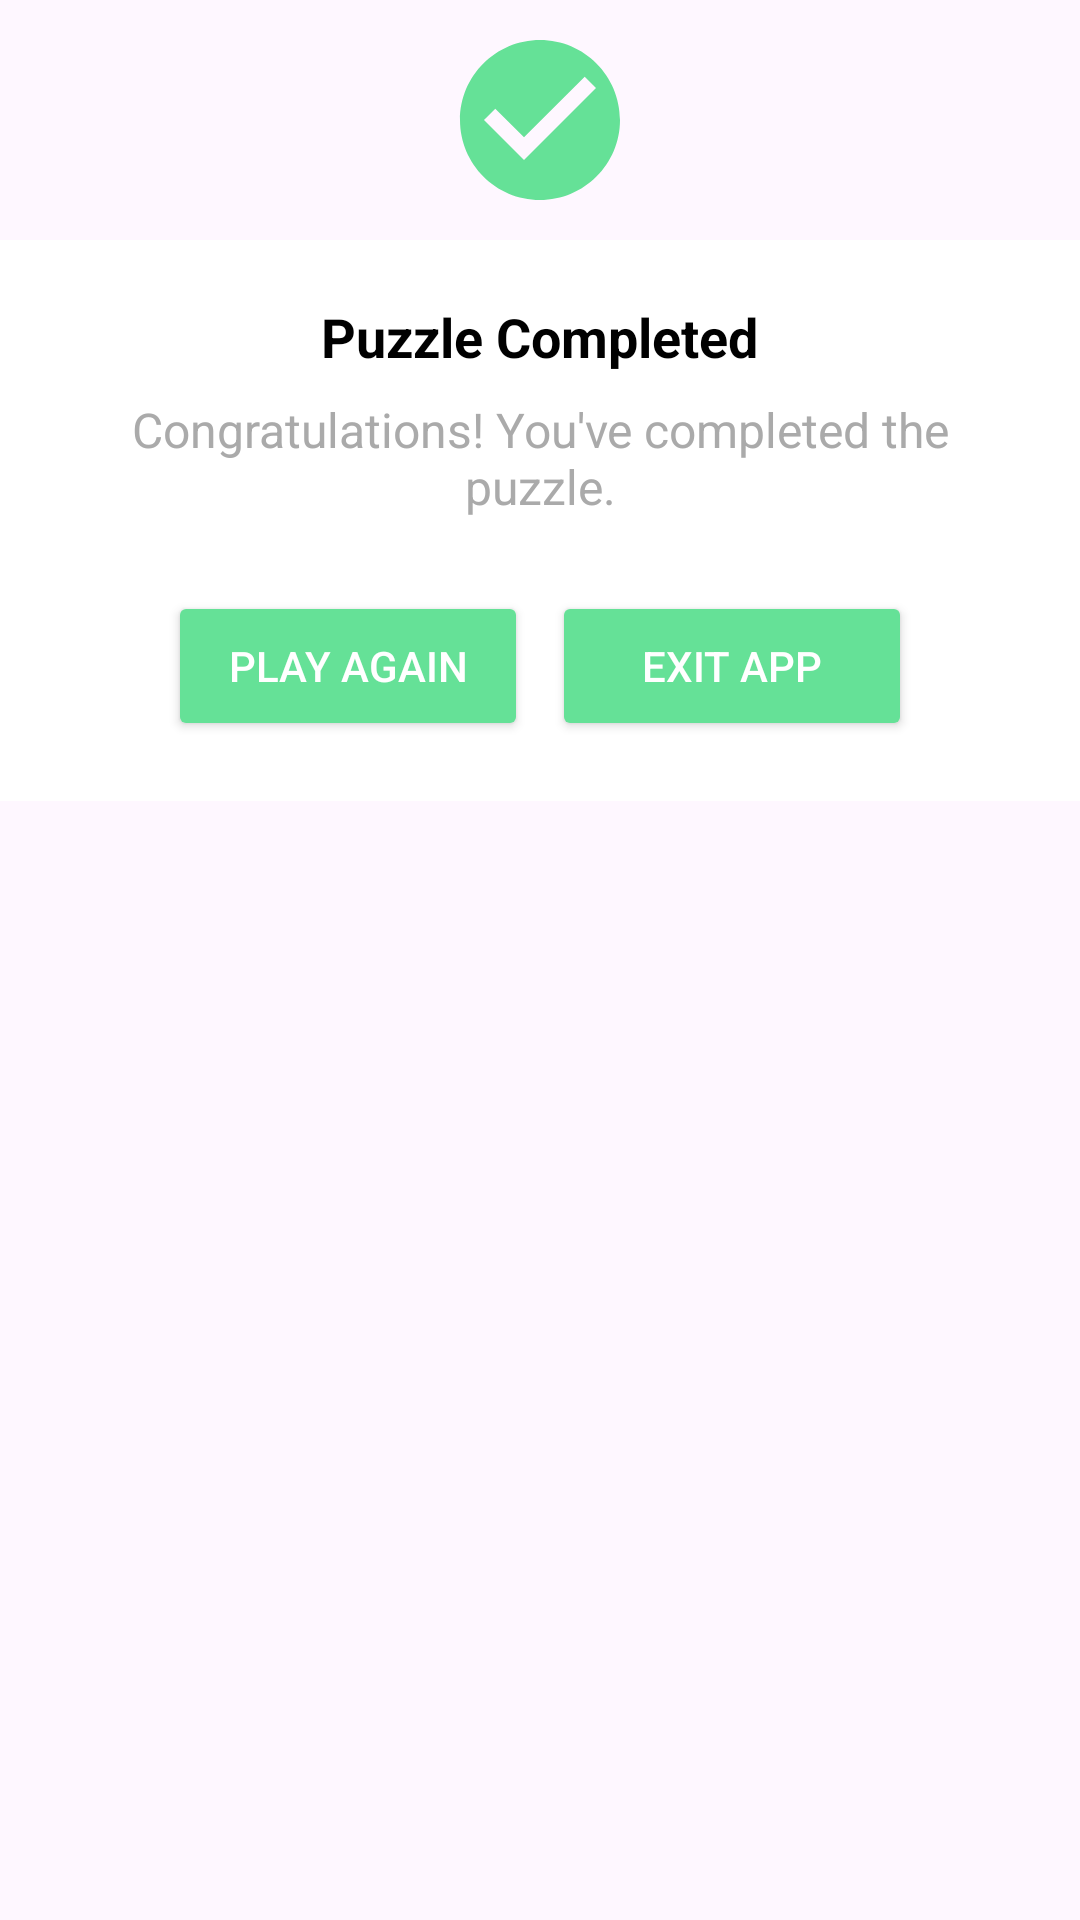

Screen size 1080px x 1920px. Icon name, then its box in pixels as (x1, y1, x2, y2):
check circle: (460, 40, 620, 200)
